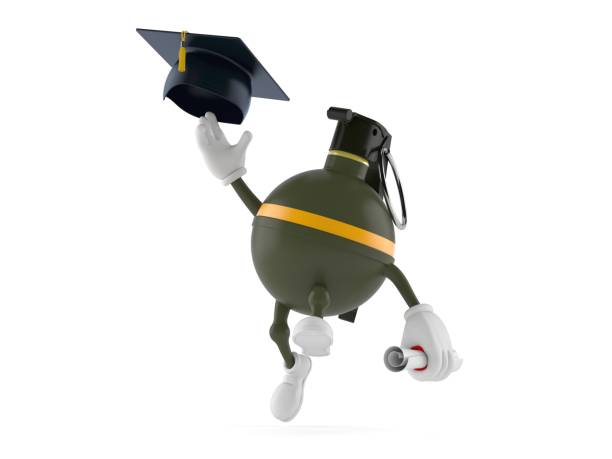e1: (249, 104, 409, 318)
